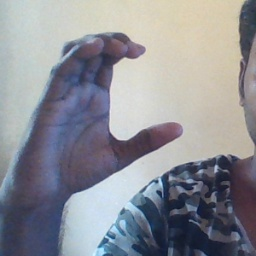C: (42, 28, 191, 165)
